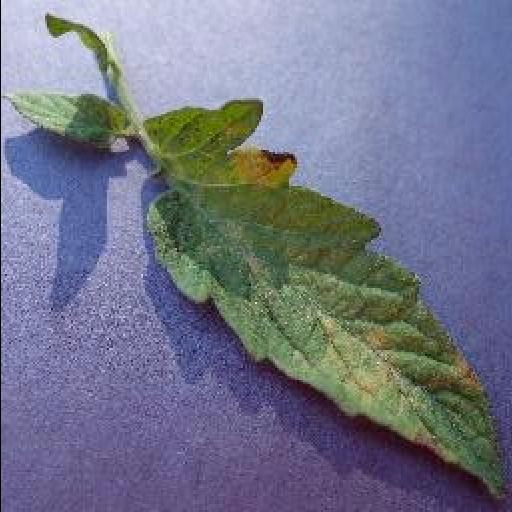disease_tomato: (144, 99, 510, 503)
